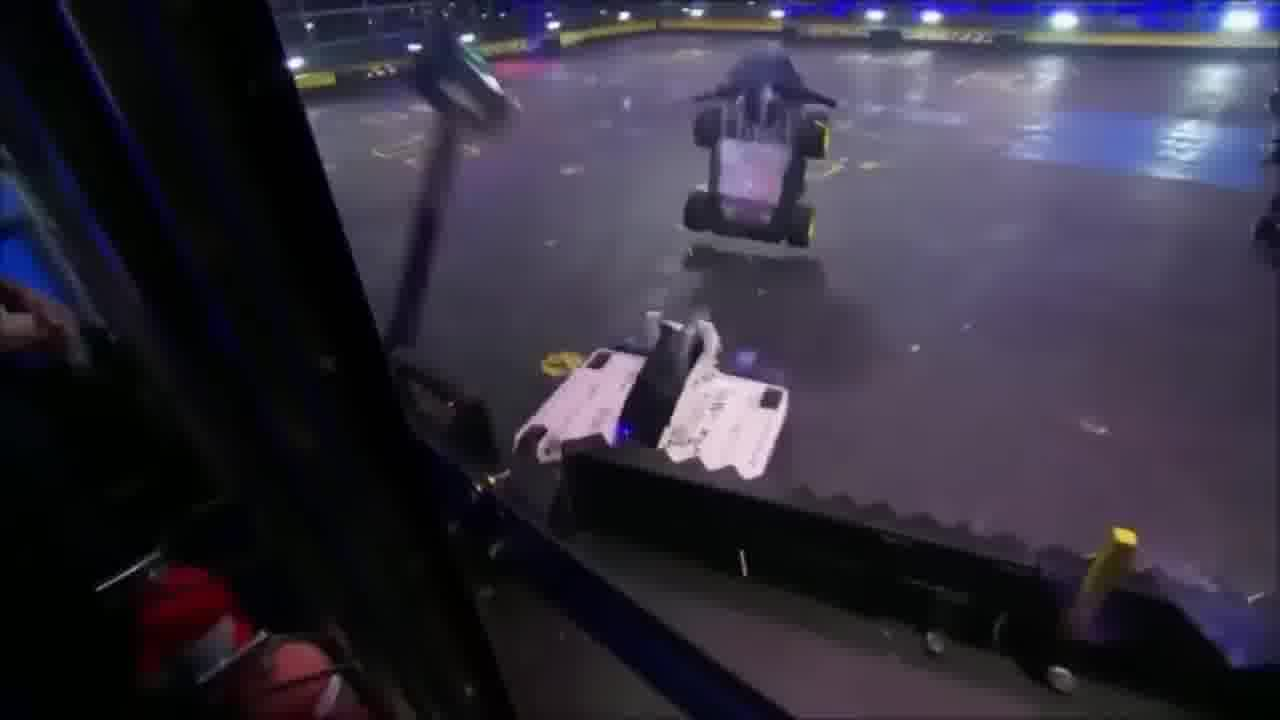combatbot: (512, 312, 797, 483), (683, 44, 840, 247)
